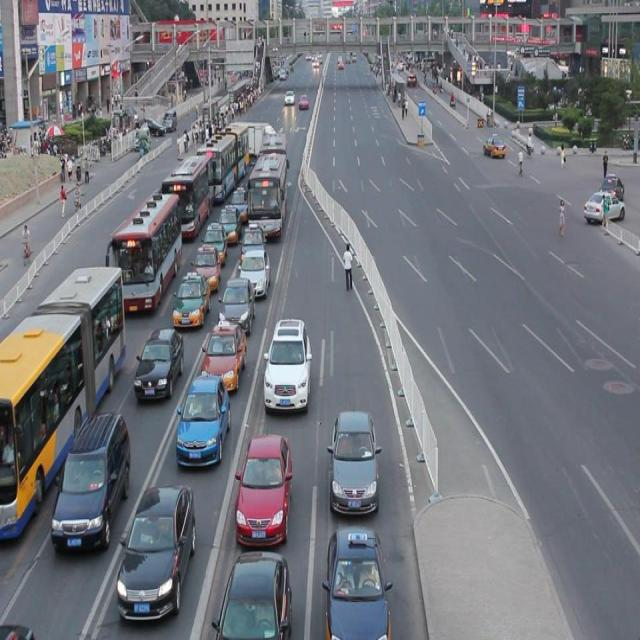bus: (227, 120, 277, 161)
car: (50, 416, 132, 549), (117, 484, 195, 618), (323, 530, 392, 640), (215, 547, 289, 640), (235, 433, 292, 545), (326, 408, 381, 514), (176, 374, 231, 465), (263, 316, 311, 408), (135, 326, 184, 399), (200, 319, 246, 392), (172, 269, 209, 327), (218, 279, 255, 333), (239, 248, 270, 296), (582, 188, 624, 223), (190, 244, 221, 291), (239, 223, 267, 265), (201, 221, 228, 263), (217, 204, 240, 243), (227, 187, 249, 221), (482, 132, 505, 160)
van: (1, 264, 124, 540), (106, 192, 181, 312), (160, 157, 213, 239), (196, 124, 250, 202), (244, 153, 287, 238), (258, 131, 290, 184)
